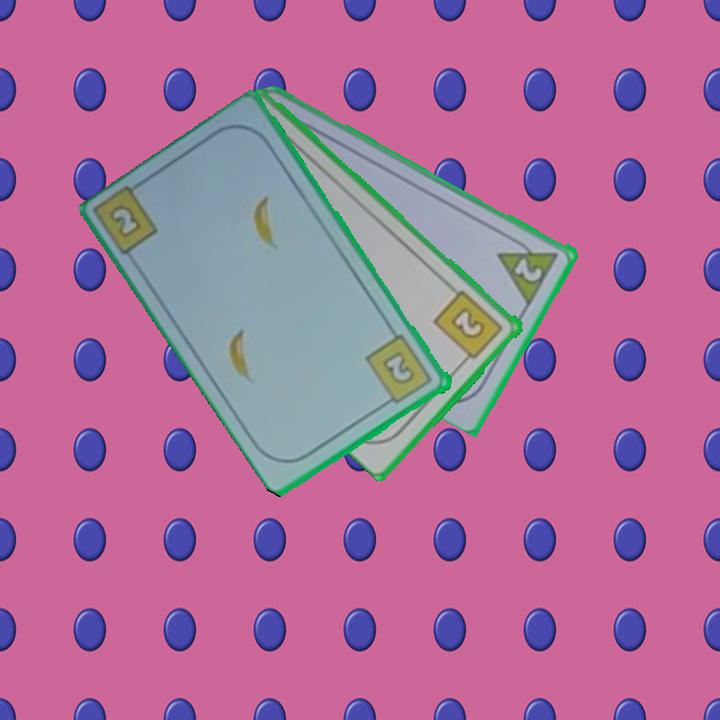2b: (430, 286, 507, 367), (363, 331, 436, 409), (109, 204, 142, 238)
2p: (511, 254, 546, 285)
